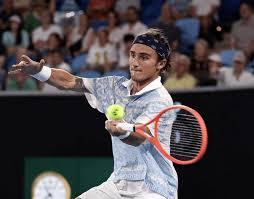ball_tennis: (106, 104, 125, 121)
